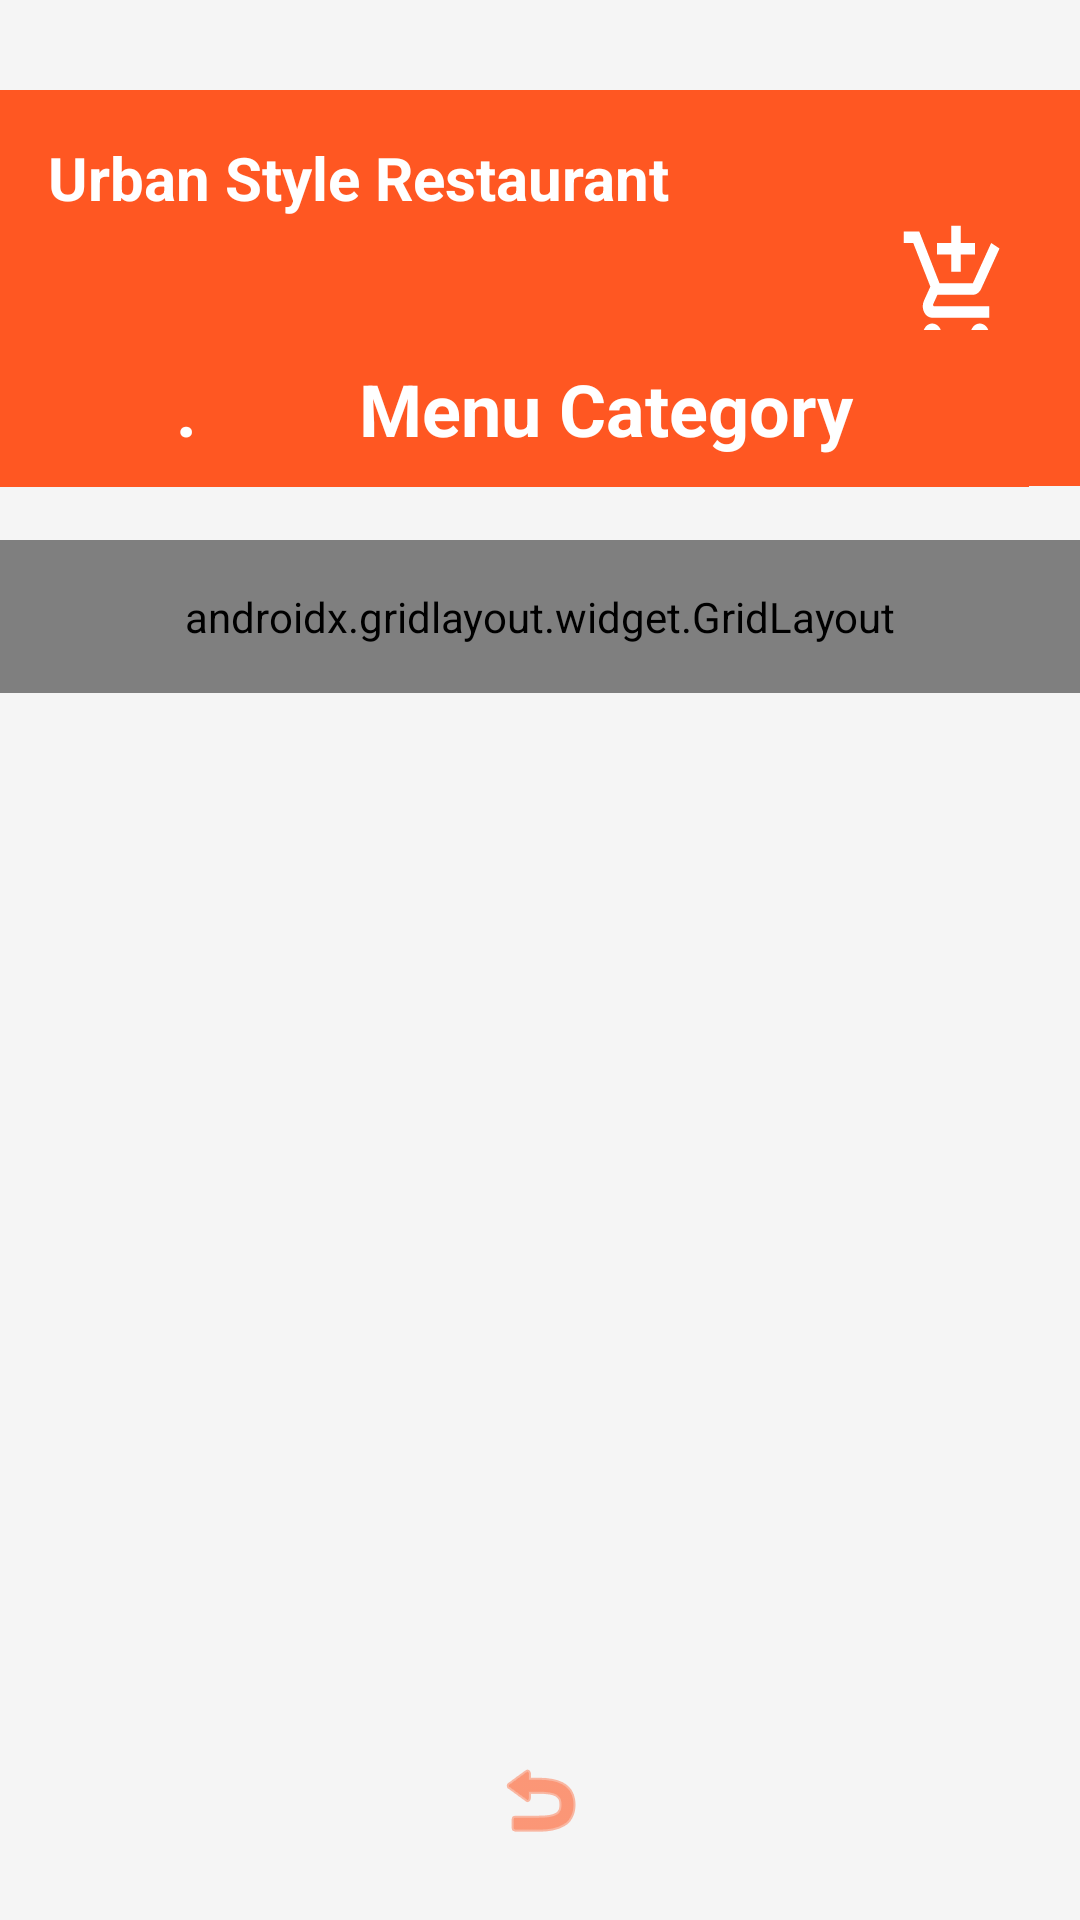

Named icons in this screenshot (1080 × 1920) and their bounding boxes, (x1=x1, y1=y1, x2=x2, y2=y2):
revert: (x1=507, y1=1769, x2=576, y2=1832)
shopping cart: (x1=903, y1=225, x2=1000, y2=330)
